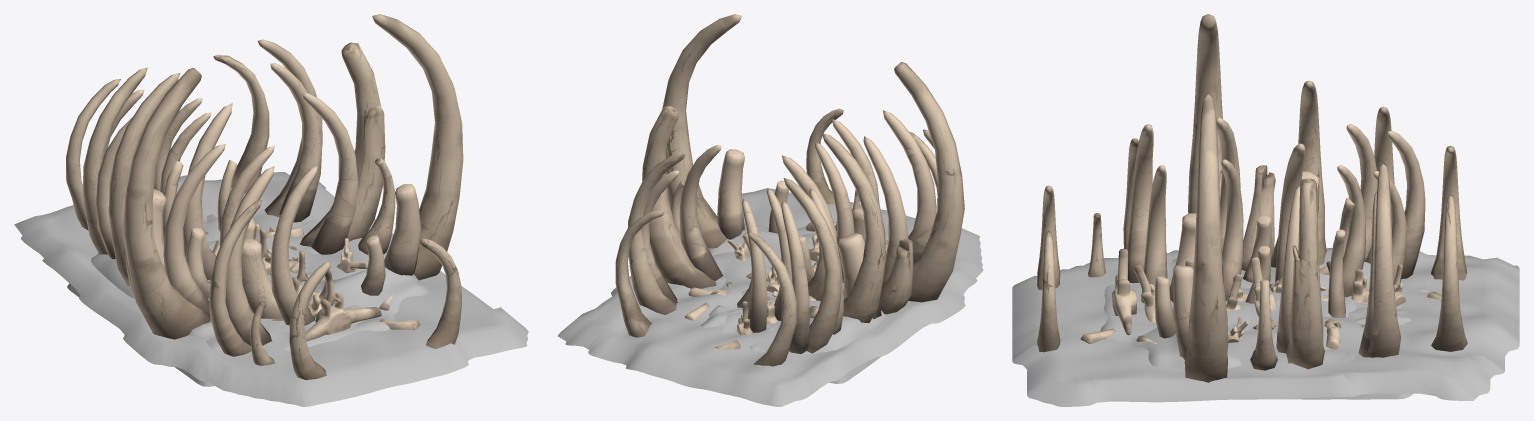
File: ossos_New.fbx
3 renders of one model, left to right at view 1: azimuth 30°, elevation 25°; view 2: azimuth 150°, elevation 25°; view 3: azimuth 270°, elevation 25°, orthographic. The views are drawn at different scales.
Visible parts, largest first — view 1: costela_1, costela_2, costela_3; view 2: costela_1, costela_2, costela_3, coluna_1; view 3: costela_1, costela_2, costela_3, coluna_1.
Boxes of the visible parts, x1=… form: costela_1: x1=14, y1=14, x2=528, y2=406; costela_2: x1=67, y1=63, x2=429, y2=386; costela_3: x1=154, y1=98, x2=317, y2=325; costela_1: x1=557, y1=14, x2=983, y2=406; costela_2: x1=641, y1=110, x2=936, y2=383; costela_3: x1=701, y1=119, x2=879, y2=351; coluna_1: x1=710, y1=256, x2=819, y2=335; costela_1: x1=1012, y1=14, x2=1519, y2=406; costela_2: x1=1100, y1=117, x2=1425, y2=399; costela_3: x1=1141, y1=143, x2=1429, y2=324; coluna_1: x1=1233, y1=261, x2=1405, y2=330.
Bounding box in the file's own units: 469 × 388 × 623.
